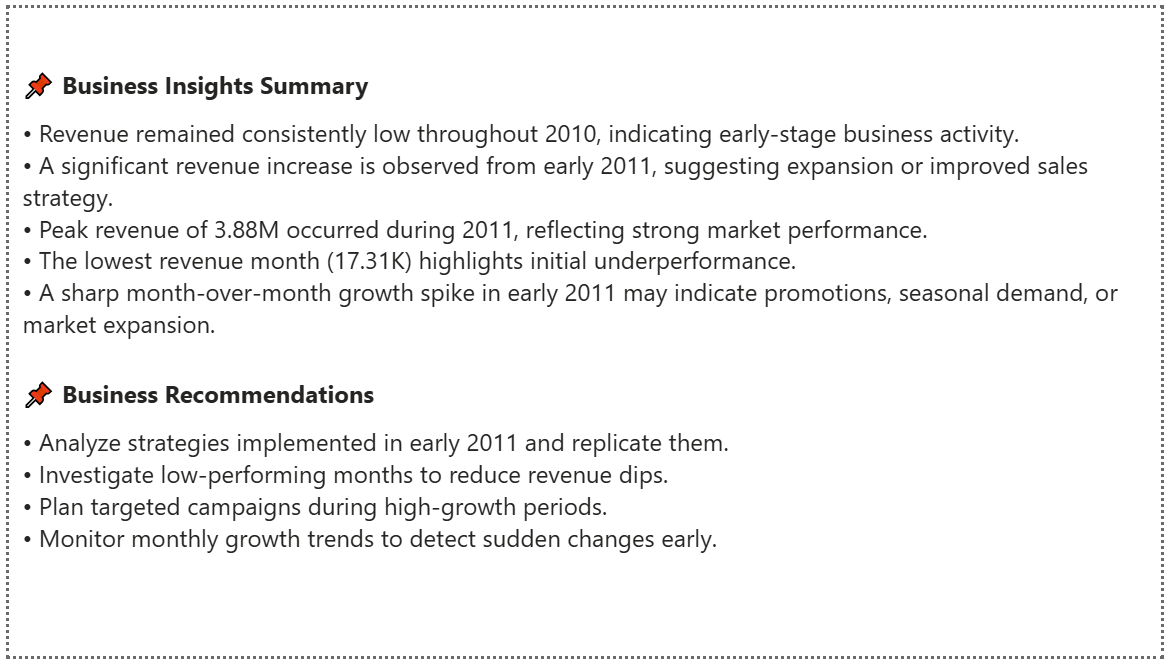

This screenshot's page, from the dashboard's own definition file:
{"tool":"powerbi","page":{"name":"Business Insights & Recommendations","canvas":[1280,720],"ordinal":1},"visuals":[{"type":"textbox","box":[10,61.7,1270,330],"z":0},{"type":"textbox","box":[10,405,1270,235],"z":1000}]}

Visuals, with their boxes in screenshot pixels (x1, y1, x2, y2), scaled from the page's 1280x720 canvas onto the 1170x664 screenshot:
textbox: {"x1": 9, "y1": 57, "x2": 1169, "y2": 361}
textbox: {"x1": 9, "y1": 374, "x2": 1169, "y2": 590}
